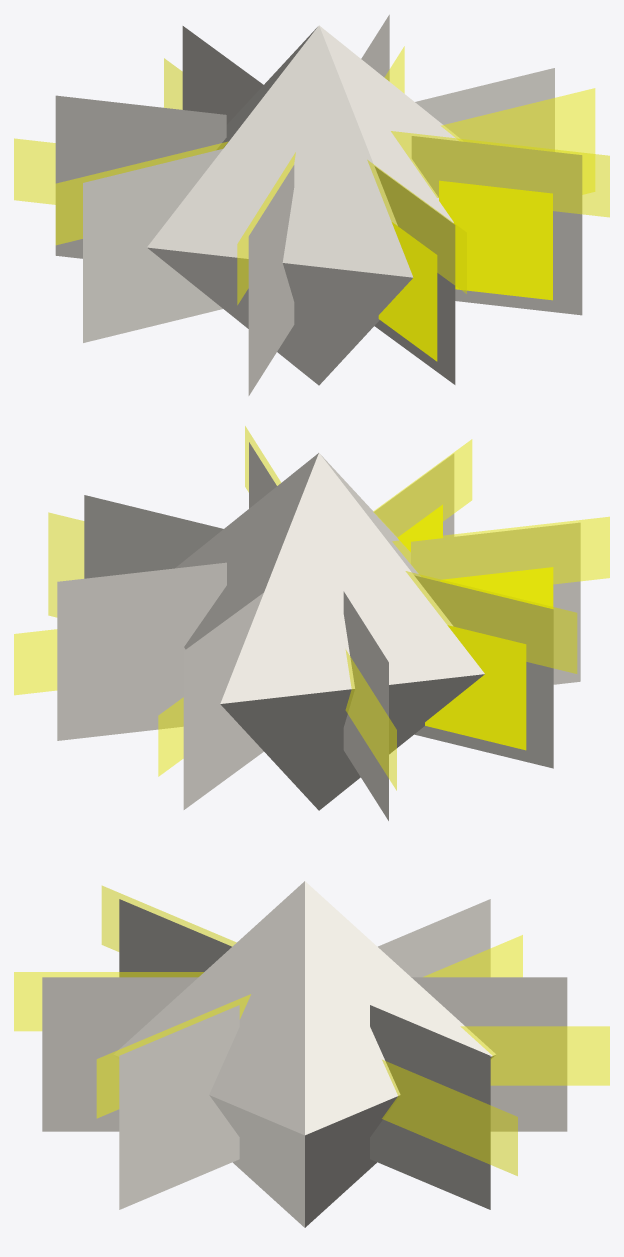
File: octahedron.glb
3 views of the same model, one above another, from view 1: azimuth 30°, elevation 25°; view 2: azimuth 150°, elevation 25°; view 3: azimuth 270°, elevation 25° (orthographic). The views are drawn at different scales.
Visible parts, largest first — view 1: TriQR_Body, TriQR_Label (×8), TriQR_FaceSurface_face-5, TriQR_FaceSurface_face-6, TriQR_FaceSurface_face-2, TriQR_QR_face-2, TriQR_FaceSurface_name-face, TriQR_FaceSurface_face-4, TriQR_FaceSurface_face-3, TriQR_FaceSurface_face-7, TriQR_QR_face-3, TriQR_FaceSurface_face-8; view 2: TriQR_Body, TriQR_Label (×8), TriQR_FaceSurface_face-8, TriQR_FaceSurface_face-4, TriQR_FaceSurface_face-5, TriQR_FaceSurface_face-7, TriQR_FaceSurface_name-face, TriQR_QR_face-5, TriQR_FaceSurface_face-6, TriQR_FaceSurface_face-3, TriQR_QR_face-4, TriQR_FaceSurface_face-2 (+1 smaller); view 3: TriQR_Body, TriQR_Label (×6), TriQR_FaceSurface_face-8, TriQR_FaceSurface_face-2, TriQR_FaceSurface_face-7, TriQR_FaceSurface_face-3, TriQR_FaceSurface_face-6, TriQR_FaceSurface_face-4.
Boxes of the visible parts, box(x1,y1,x2,y2) form: TriQR_Body: box(147, 25, 462, 385); TriQR_Label (×8): box(14, 46, 609, 304); TriQR_FaceSurface_face-5: box(83, 149, 222, 342); TriQR_FaceSurface_face-6: box(55, 95, 226, 258); TriQR_FaceSurface_face-2: box(411, 136, 582, 315); TriQR_QR_face-2: box(439, 180, 552, 300); TriQR_FaceSurface_name-face: box(415, 68, 554, 151); TriQR_FaceSurface_face-4: box(248, 165, 294, 395); TriQR_FaceSurface_face-3: box(374, 166, 455, 384); TriQR_FaceSurface_face-7: box(182, 26, 263, 124); TriQR_QR_face-3: box(378, 222, 437, 361); TriQR_FaceSurface_face-8: box(361, 14, 389, 81); TriQR_Body: box(175, 453, 484, 810); TriQR_Label (×8): box(14, 426, 609, 790); TriQR_FaceSurface_face-8: box(57, 562, 226, 740); TriQR_FaceSurface_face-4: box(411, 522, 580, 684); TriQR_FaceSurface_face-5: box(414, 575, 553, 768); TriQR_FaceSurface_face-7: box(183, 592, 263, 809); TriQR_FaceSurface_name-face: box(84, 495, 223, 578); TriQR_QR_face-5: box(425, 625, 526, 750); TriQR_FaceSurface_face-6: box(343, 591, 388, 820); TriQR_FaceSurface_face-3: box(374, 454, 454, 537); TriQR_QR_face-4: box(440, 567, 553, 608); TriQR_FaceSurface_face-2: box(249, 442, 276, 508); TriQR_Body: box(113, 881, 495, 1227); TriQR_Label (×6): box(14, 885, 609, 1175); TriQR_FaceSurface_face-8: box(370, 1005, 490, 1209); TriQR_FaceSurface_face-2: box(119, 1005, 239, 1209); TriQR_FaceSurface_face-7: box(411, 977, 567, 1131); TriQR_FaceSurface_face-3: box(42, 977, 197, 1131); TriQR_FaceSurface_face-6: box(378, 899, 490, 977); TriQR_FaceSurface_face-4: box(119, 899, 231, 977).
Bounding box in the file's own units: 4.2 × 2.7 × 4.2.
21 materials, 12 textured.
